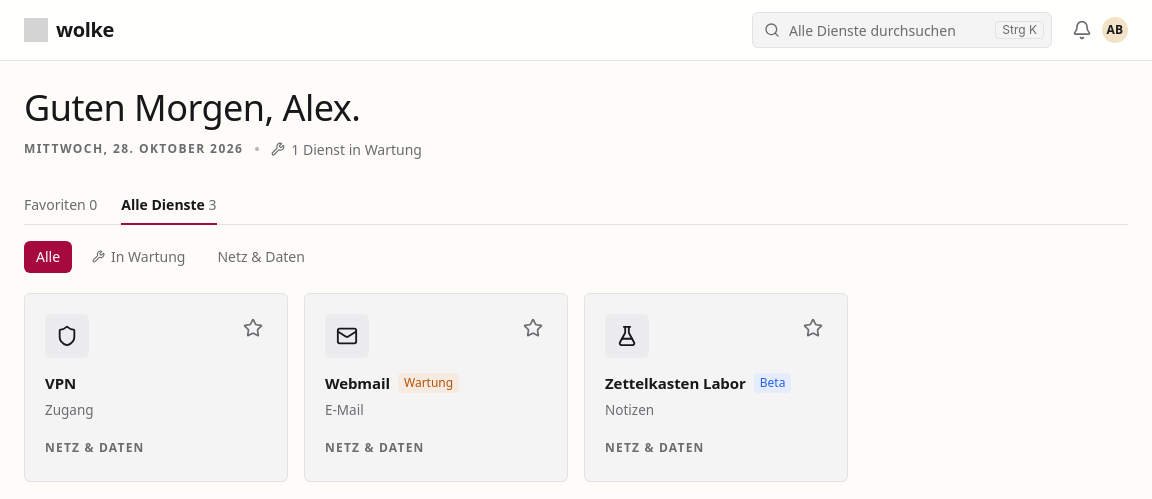
it: no section heading on facet views (issue #182) › keeps the "Suchergebnisse" heading — a search has no pill to name it
The image size is (1152, 499).
Expected: the link named "VPN" is shown, [25,294,287,481]
Type "vpn" into the search field at (902, 30), box [752,12,1052,48]
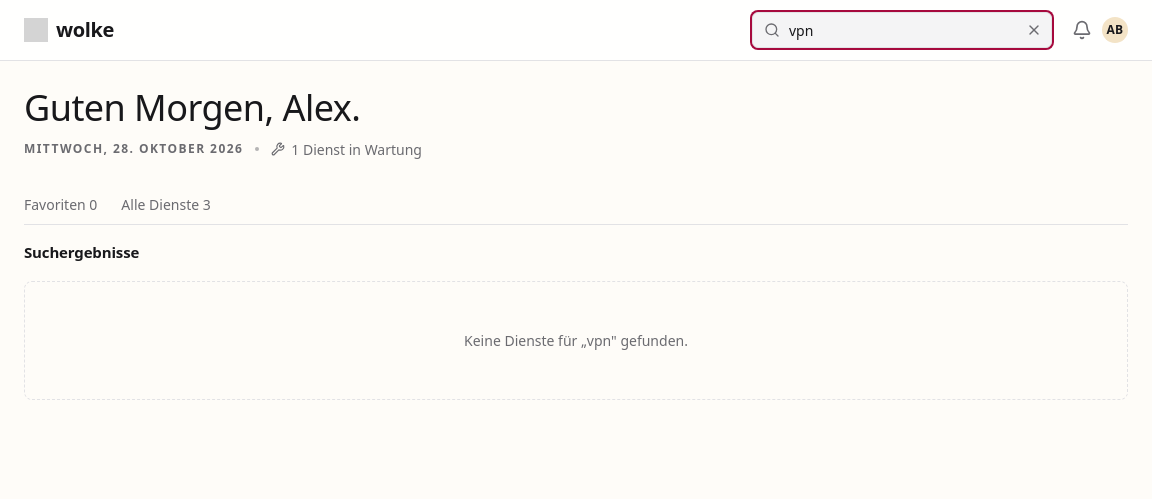
Result: the heading "Suchergebnisse" is shown at [24,242,139,262]
